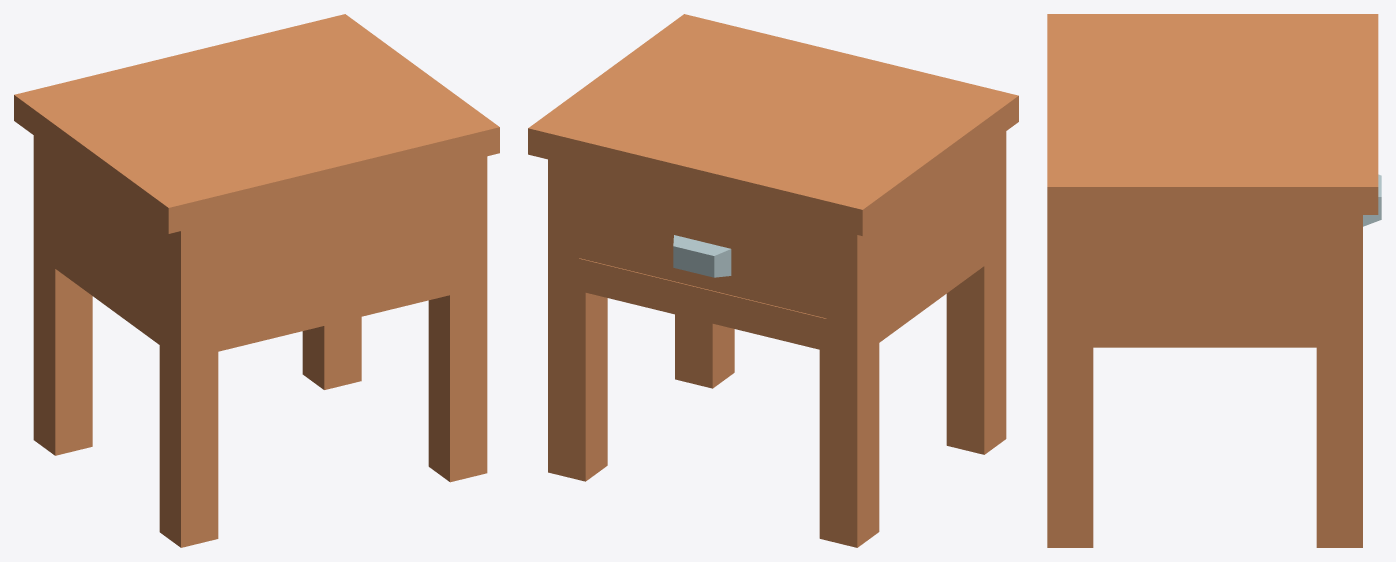
The model's file is cabinetbeddrawertable.gltf.
3 views of the same model, side by side, from view 1: azimuth 30°, elevation 25°; view 2: azimuth 150°, elevation 25°; view 3: azimuth 270°, elevation 25° (orthographic). The views are drawn at different scales.
Parts seen in each view (by area): view 1: cabinetbeddrawertable; view 2: cabinetbeddrawertable; view 3: cabinetbeddrawertable.
Part boxes in pixels (x1,y1,x2,y2): cabinetbeddrawertable: [14, 14, 499, 547]; cabinetbeddrawertable: [528, 14, 1018, 547]; cabinetbeddrawertable: [1047, 14, 1381, 547].
Size of the model in its own units: 0.266 by 0.2632 by 0.2173.
1 material, 1 textured.
